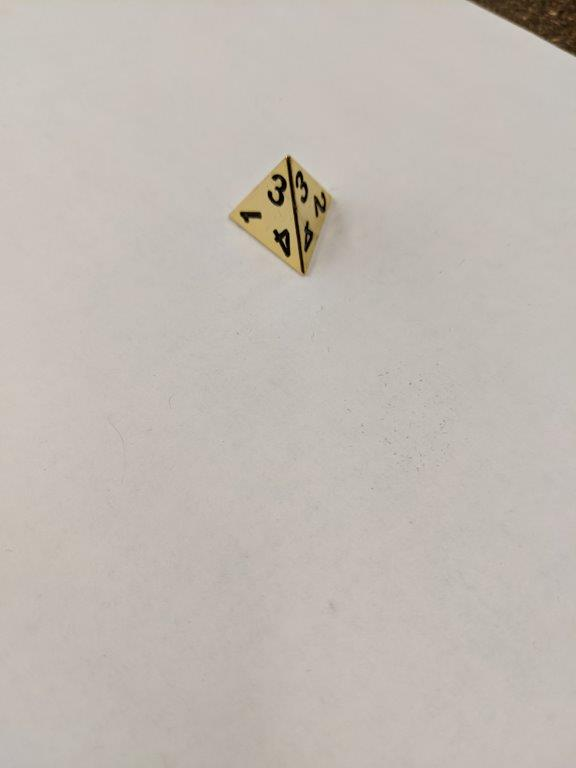d4-3: (228, 156, 338, 278)
